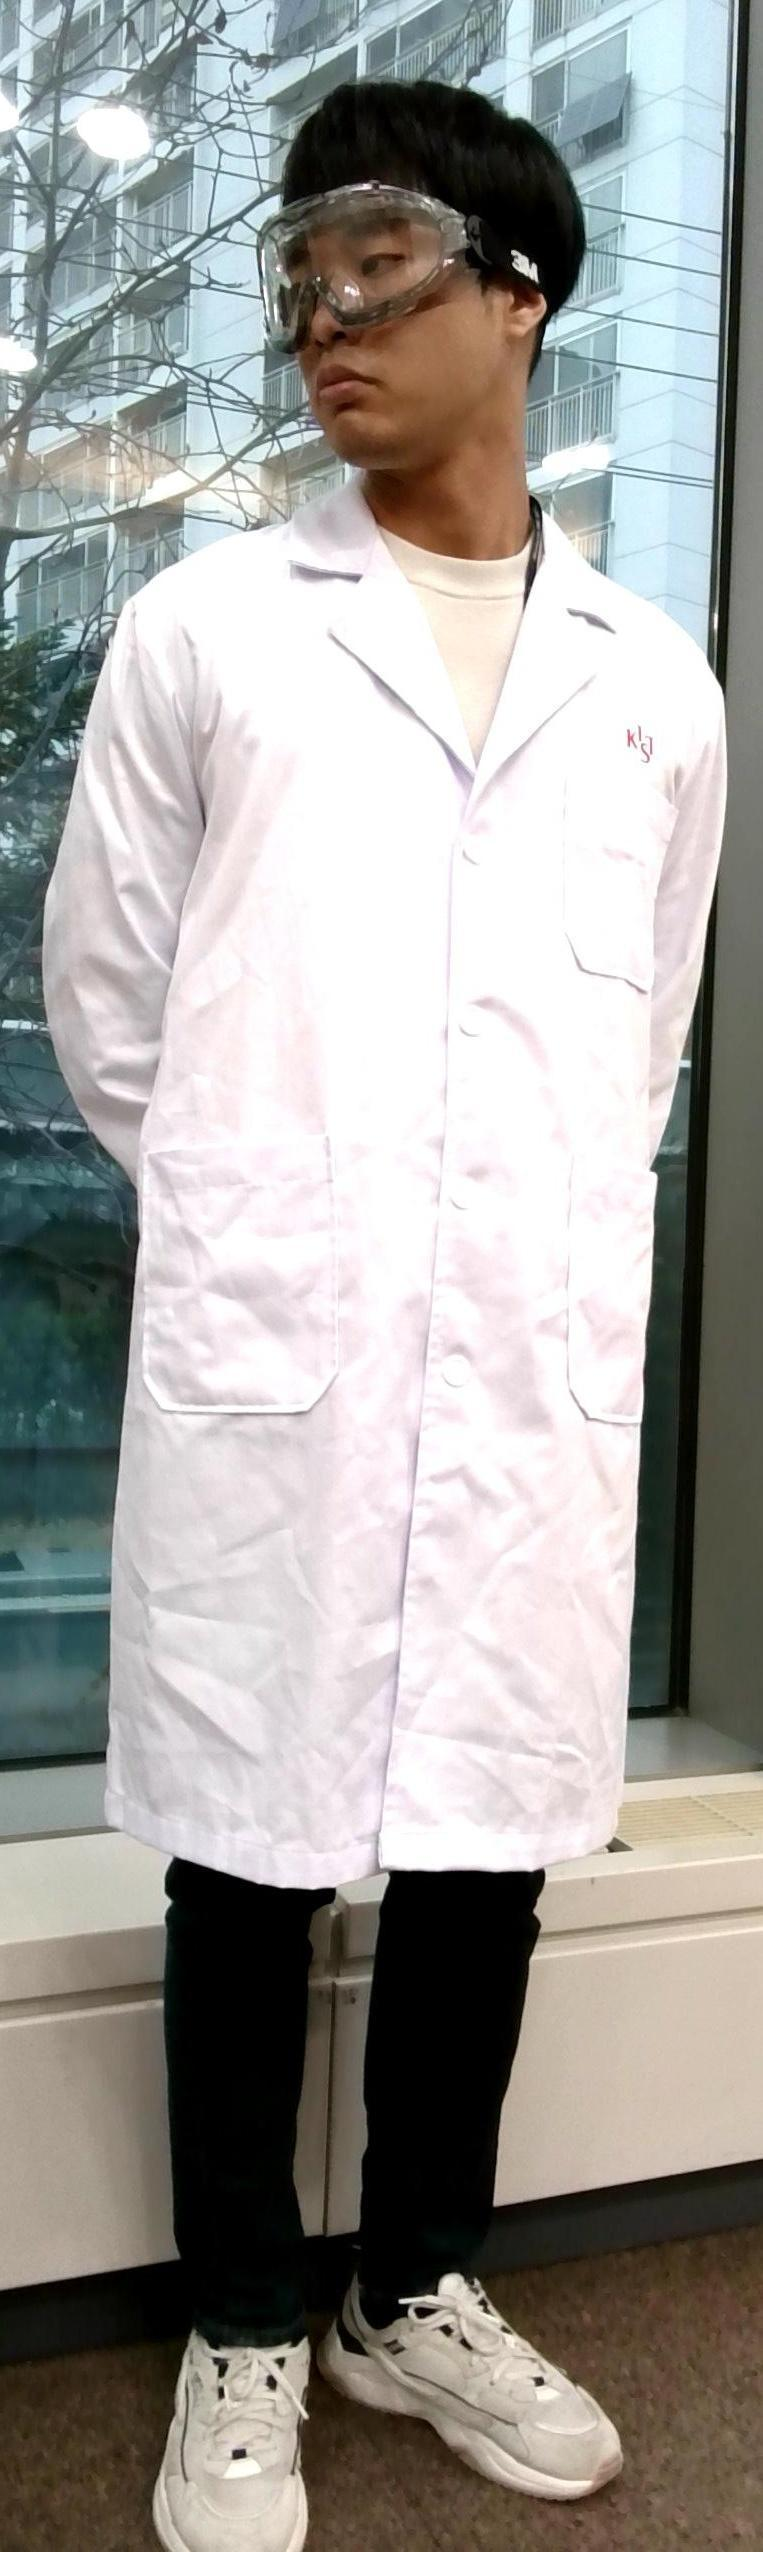lab_coat: (67, 581, 695, 1872)
